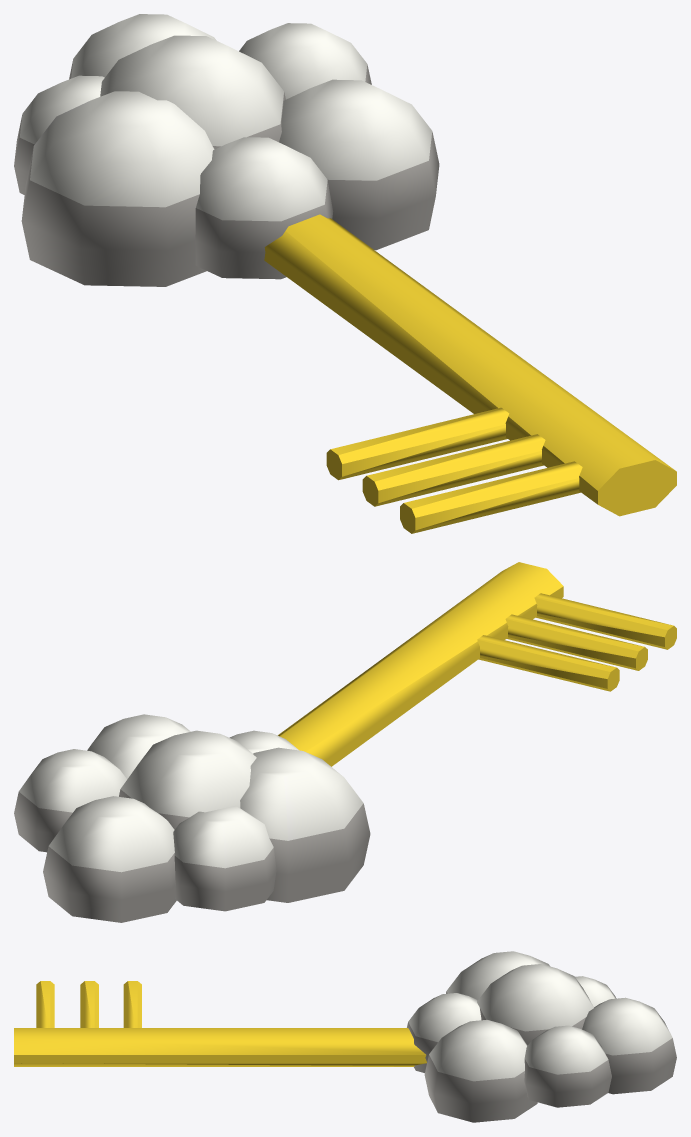
The model's file is SHEEP_KEY.fbx.
3 views of the same model, one above another, from view 1: azimuth 30°, elevation 25°; view 2: azimuth 150°, elevation 25°; view 3: azimuth 270°, elevation 25° (orthographic). The views are drawn at different scales.
Parts seen in each view (by area): view 1: SHEEP_KEY; view 2: SHEEP_KEY; view 3: SHEEP_KEY.
Boxes of the visible parts, x1,y1,x2,y2 form: SHEEP_KEY: [14, 14, 676, 533]; SHEEP_KEY: [14, 562, 676, 922]; SHEEP_KEY: [14, 951, 676, 1122].
Bounding box in the file's own units: 8.9 × 3.36 × 21.75.
